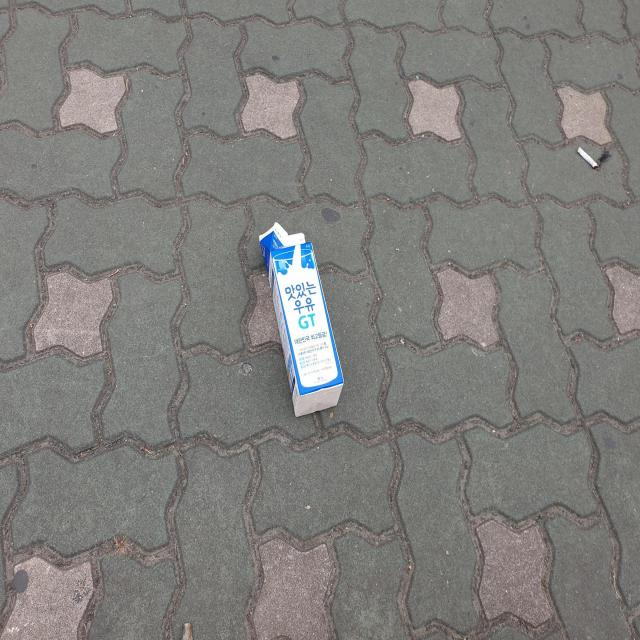paperpack: (259, 222, 344, 417)
